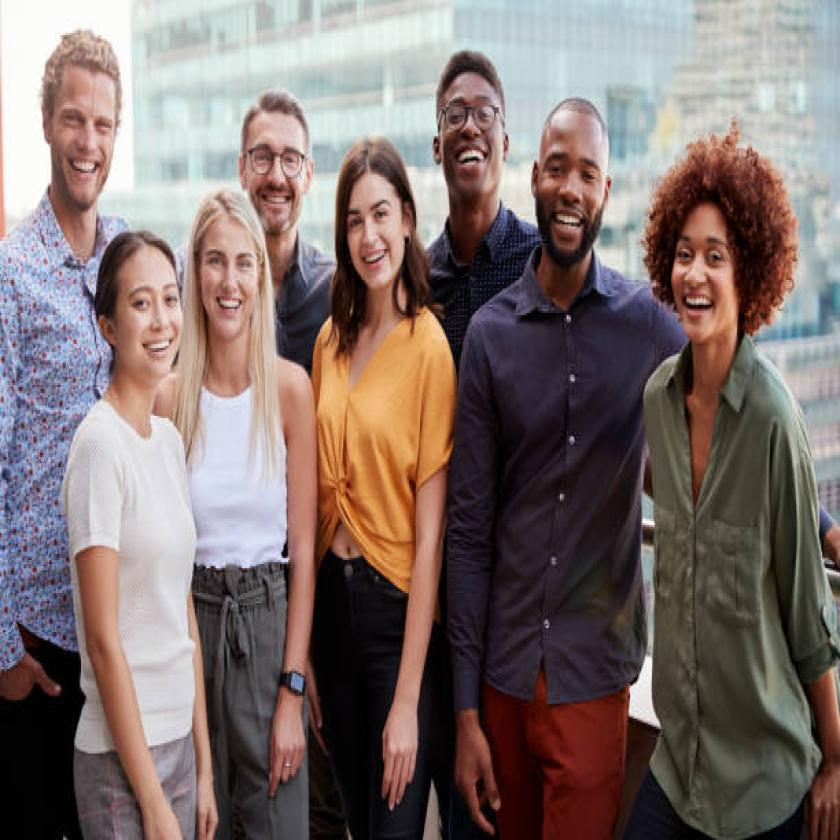Sin_casco: (637, 124, 799, 379), (34, 0, 137, 244), (528, 66, 627, 286), (82, 193, 188, 390), (223, 66, 321, 238), (192, 180, 266, 384), (427, 39, 513, 203), (340, 139, 413, 315)
